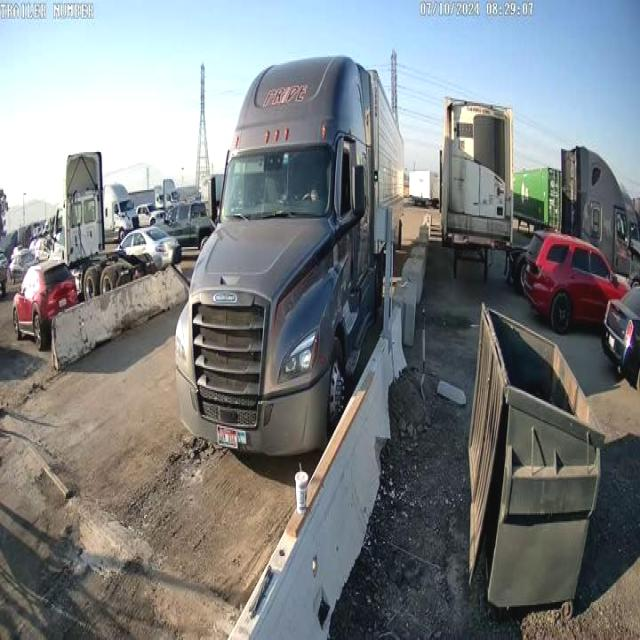CONTAINER: (354, 54, 405, 272)
